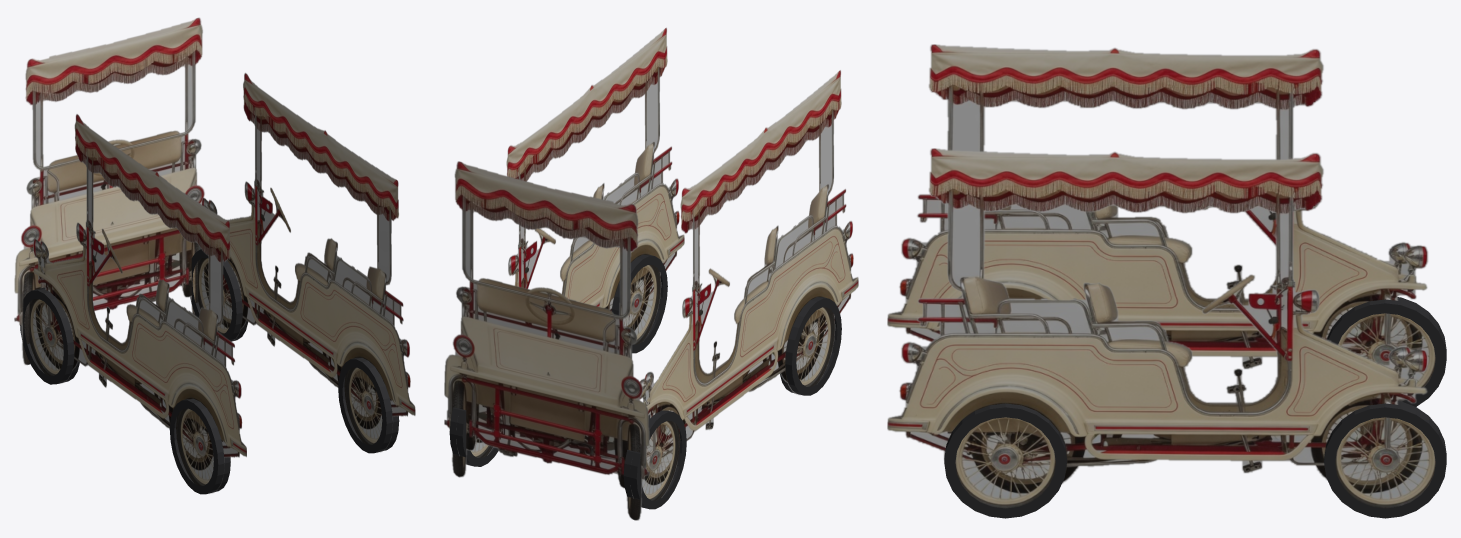
File: surrey_bike.glb
The picture shows the model from 3 angles, left to right: view 1: azimuth 30°, elevation 25°; view 2: azimuth 150°, elevation 25°; view 3: azimuth 270°, elevation 25°; orthographic projection. The views are drawn at different scales.
Visible parts, largest first — view 1: surrey_bike, wheel_FL, wheel_BR, wheel_BL, wheel_FR; view 2: surrey_bike, wheel_BL, wheel_BR, wheel_FL, wheel_FR; view 3: surrey_bike, wheel_FR, wheel_BR, wheel_FL.
Boxes of the visible parts, x1,y1,x2,y2 form: surrey_bike: [14, 17, 415, 493]; wheel_FL: [20, 287, 79, 384]; wheel_BR: [338, 357, 399, 453]; wheel_BL: [169, 398, 230, 494]; wheel_FR: [190, 249, 248, 341]; surrey_bike: [444, 27, 858, 520]; wheel_BL: [780, 297, 841, 395]; wheel_BR: [612, 254, 667, 353]; wheel_FL: [623, 410, 686, 509]; wheel_FR: [449, 407, 498, 466]; surrey_bike: [887, 44, 1435, 508]; wheel_FR: [1324, 401, 1446, 518]; wheel_BR: [944, 403, 1066, 518]; wheel_FL: [1327, 297, 1446, 406].
Bounding box in the file's own units: 1.3 × 1.91 × 2.5.
2 materials, 1 textured.
